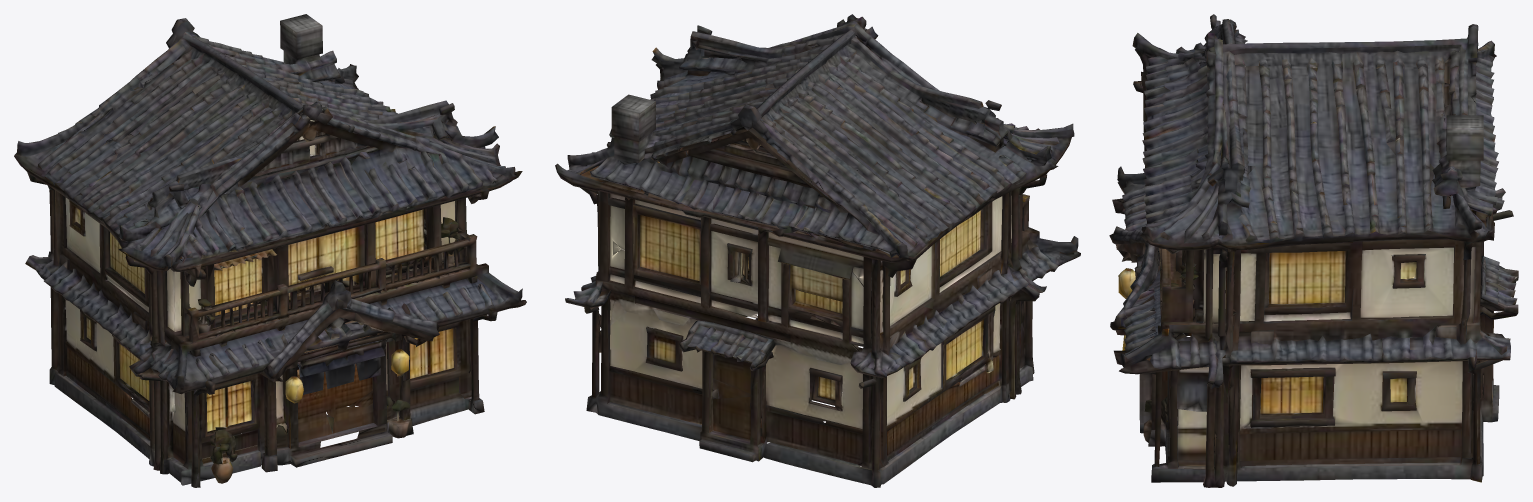
3 views of the same model, side by side, from view 1: azimuth 30°, elevation 25°; view 2: azimuth 150°, elevation 25°; view 3: azimuth 270°, elevation 25° (orthographic). The views are drawn at different scales.
Parts seen in each view (by area): view 1: compact__hotel_2__native_mobile; view 2: compact__hotel_2__native_mobile; view 3: compact__hotel_2__native_mobile.
Part boxes in pixels (left/top/right/bottom): compact__hotel_2__native_mobile: left=14, top=14, right=526, bottom=487; compact__hotel_2__native_mobile: left=555, top=14, right=1080, bottom=487; compact__hotel_2__native_mobile: left=1109, top=14, right=1518, bottom=487.
Size of the model in its own units: 1 by 0.8312 by 0.8146.
Materials: 1 (1 with a texture image).
